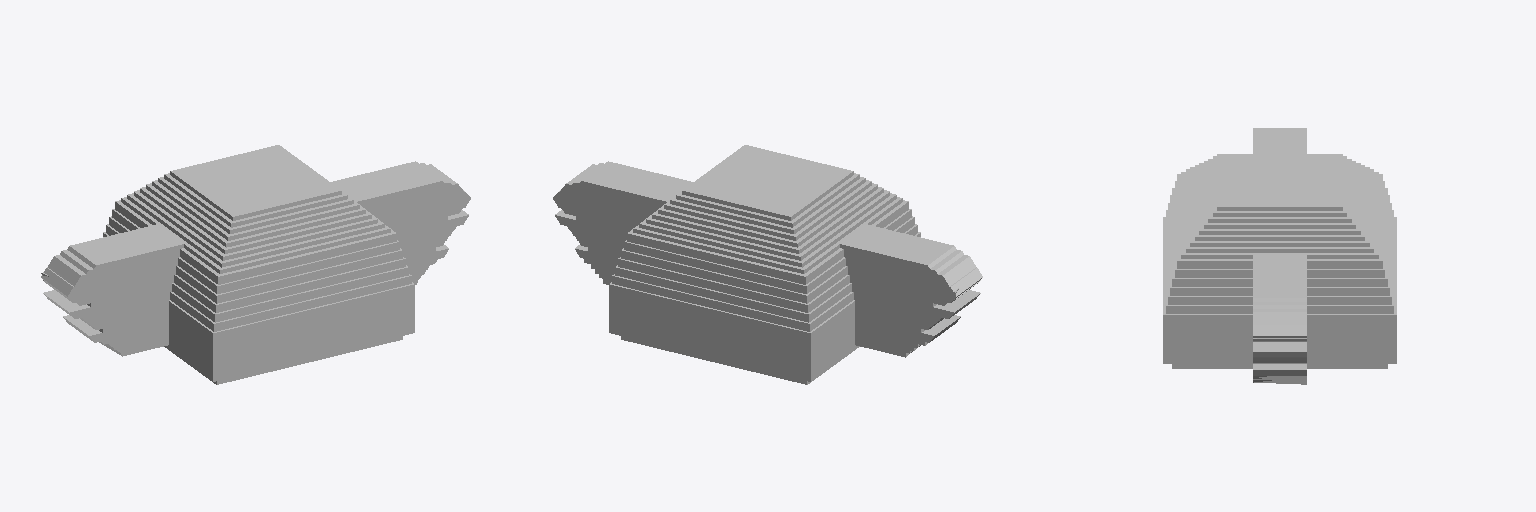
Rendered from enemy2_3.obj.
3 views of the same model, side by side, from view 1: azimuth 30°, elevation 25°; view 2: azimuth 150°, elevation 25°; view 3: azimuth 270°, elevation 25° (orthographic).
Visible parts, largest first — view 1: obj1; view 2: obj1; view 3: obj1.
Boxes of the visible parts, x1=… form: obj1: x1=41, y1=145, x2=470, y2=384; obj1: x1=553, y1=145, x2=982, y2=384; obj1: x1=1163, y1=128, x2=1396, y2=384.
Size of the model in its own units: 26 by 9.25 by 13.